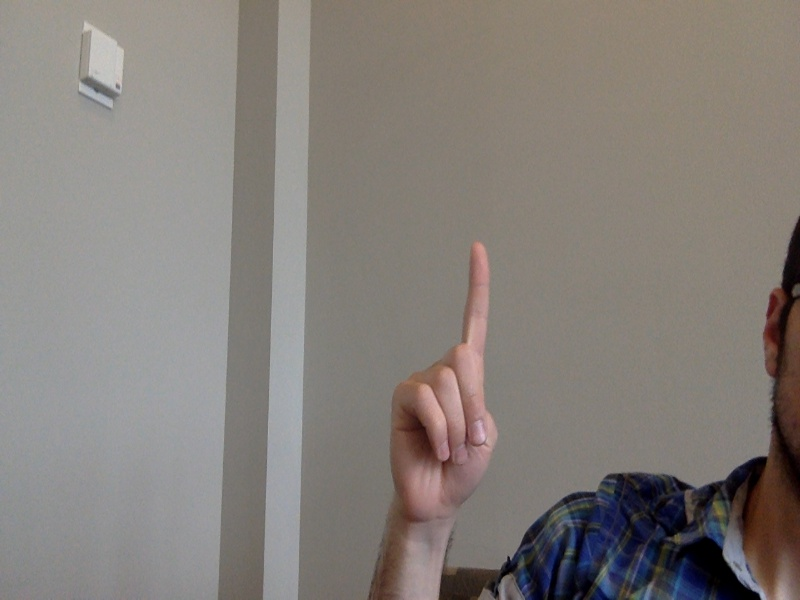1-hand: (390, 238, 501, 523)
